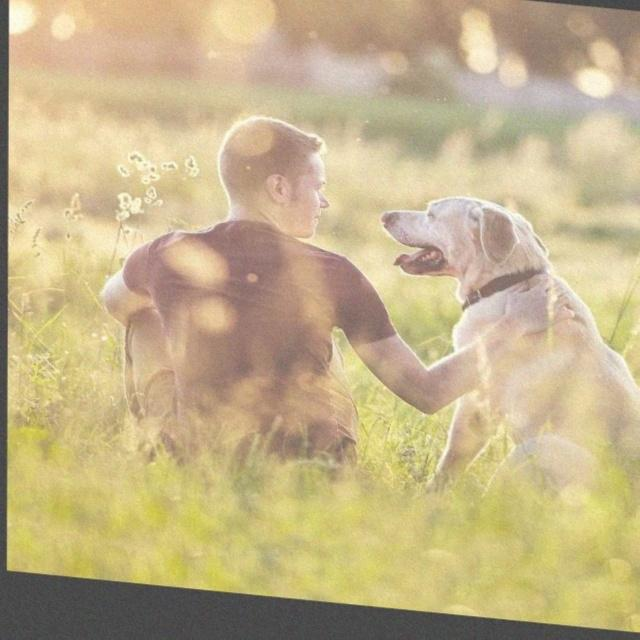dog: (400, 164, 637, 524)
person: (104, 88, 371, 500)
